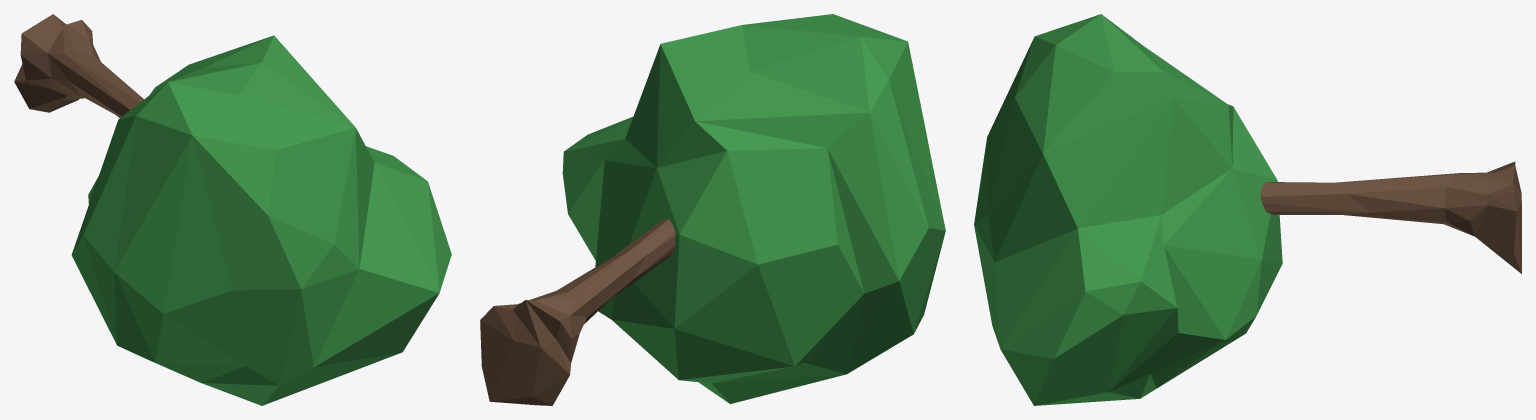
The model's file is tree1.fbx.
The picture shows the model from 3 angles, left to right: view 1: azimuth 30°, elevation 25°; view 2: azimuth 150°, elevation 25°; view 3: azimuth 270°, elevation 25°; orthographic projection. The views are drawn at different scales.
Parts seen in each view (by area): view 1: Group63421.005, Tree41; view 2: Group63421.005, Tree41; view 3: Group63421.005, Tree41.
Boxes of the visible parts, <box> form: Group63421.005: <box>71,35,451,405</box>; Tree41: <box>14,14,143,117</box>; Group63421.005: <box>562,14,945,403</box>; Tree41: <box>480,219,675,405</box>; Group63421.005: <box>974,14,1282,405</box>; Tree41: <box>1260,161,1521,273</box>.
Size of the model in its own units: 1471 by 1427 by 2101.
